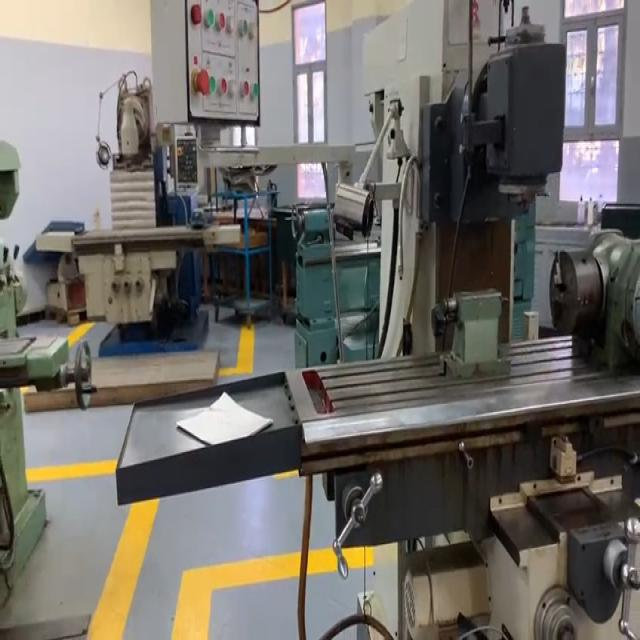fraiseuse: (116, 0, 640, 640)
